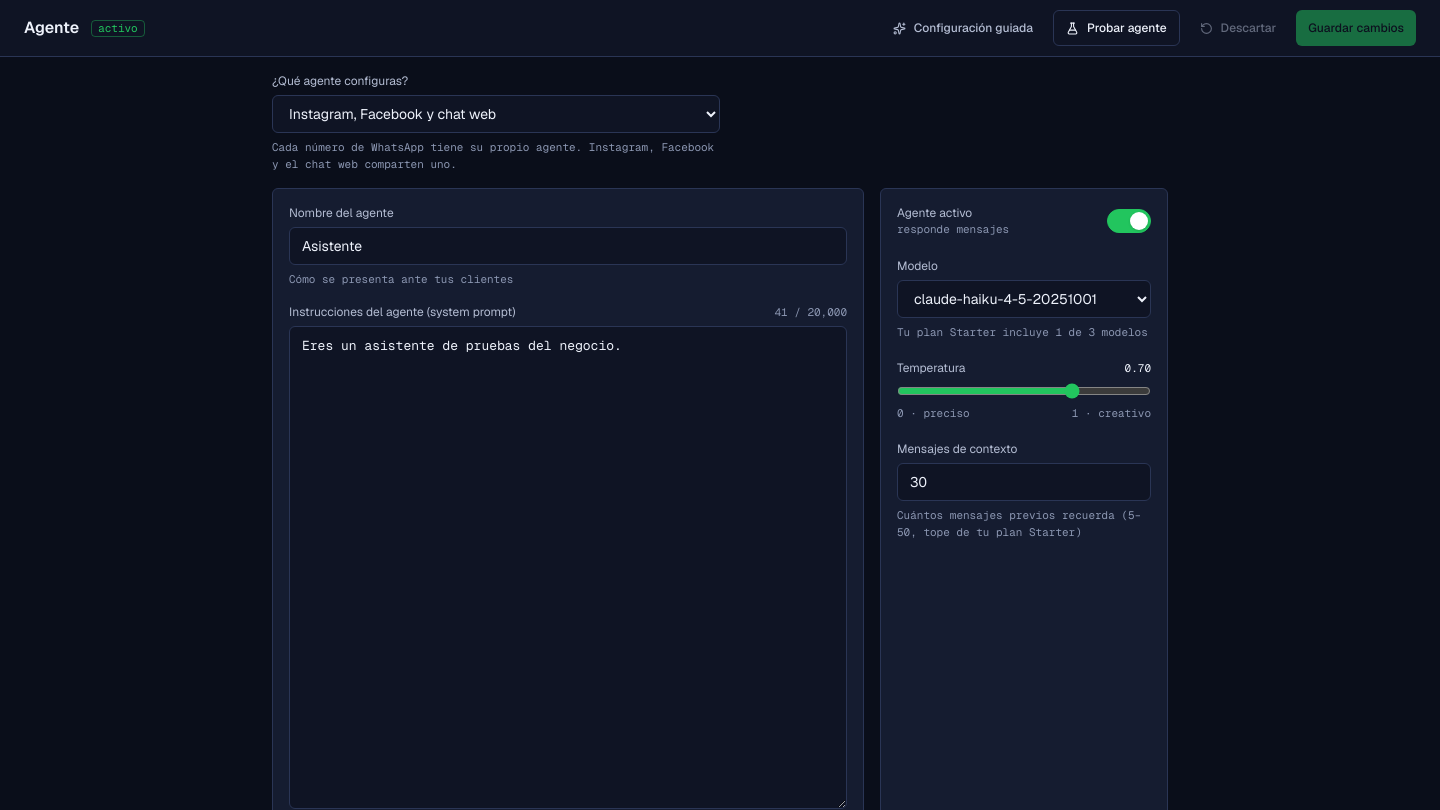
Límites del plan en /agente › el tope de mensajes de contexto es el del plan y pasarse bloquea Guardar
The image size is (1440, 810).
Replace the text in the number field labelled "Mensajes de contexto" with "51" at [1024, 482], box x1=897 y1=463 x2=1151 y2=501
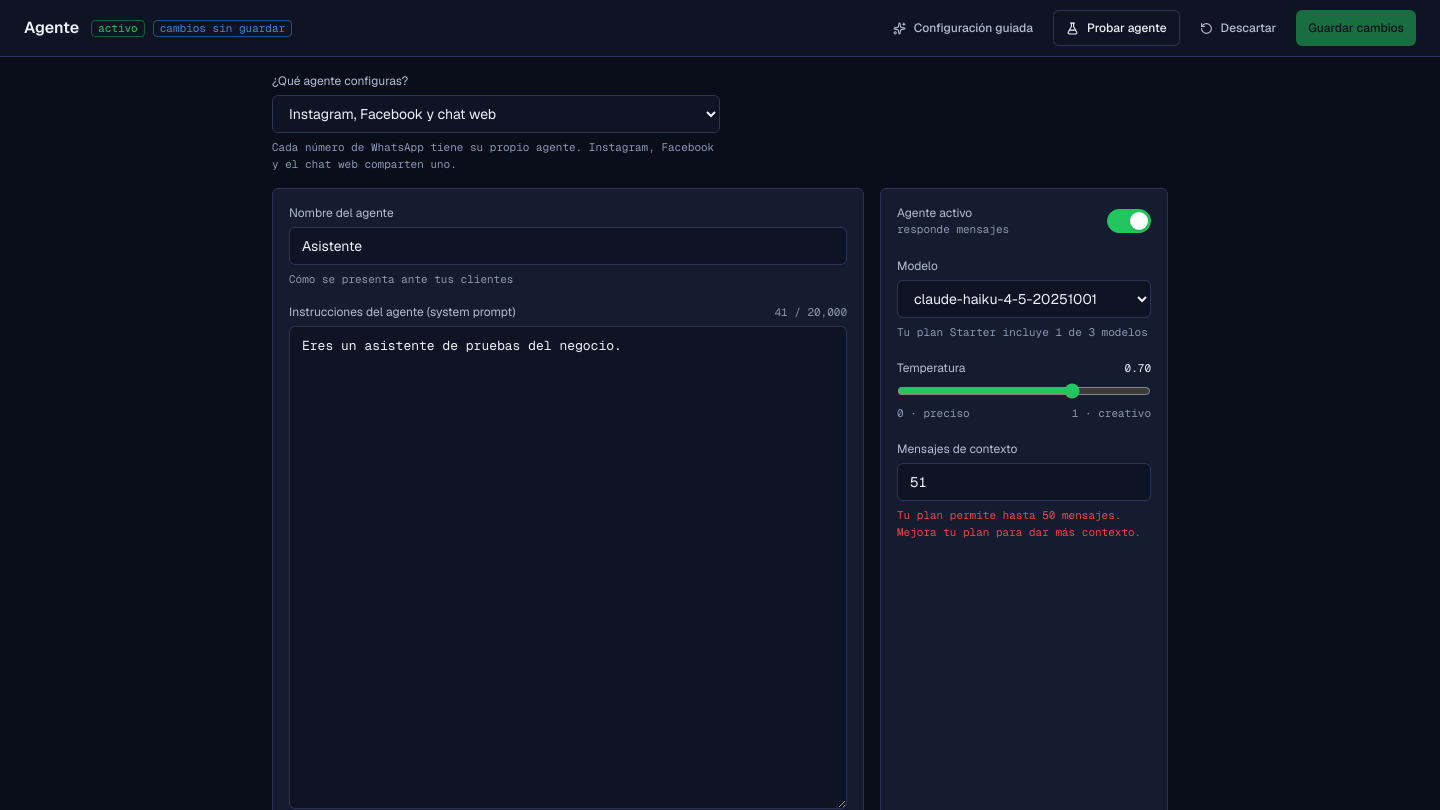
Expected: the button "Guardar cambios" is disabled, x1=1296 y1=10 x2=1416 y2=46
Expected: the text "Tu plan permite hasta 50 mensajes. Mejora tu plan para dar más contexto." is shown, x1=897 y1=507 x2=1151 y2=540
